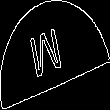M_S: (36, 24, 74, 86)
